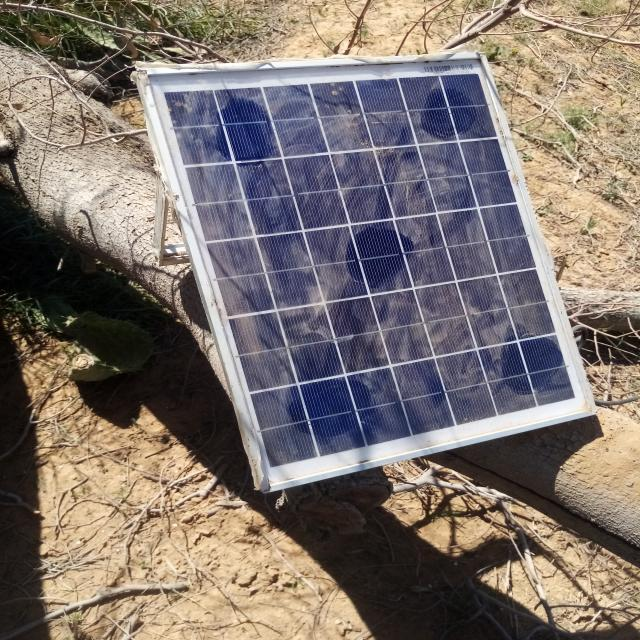faulty: (148, 54, 595, 492)
